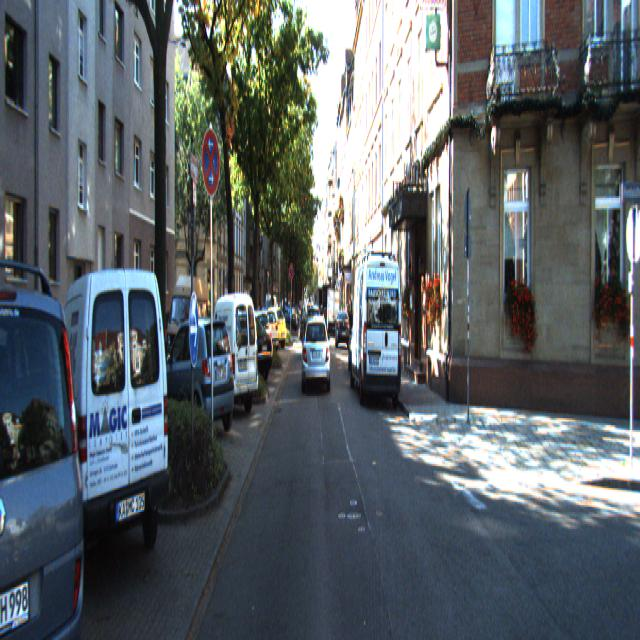Car: (48, 266, 175, 616), (0, 247, 100, 638), (156, 312, 237, 444), (189, 289, 260, 418), (350, 258, 403, 411), (162, 284, 208, 392), (218, 315, 275, 388), (302, 311, 331, 390), (255, 305, 287, 350), (304, 306, 322, 358), (336, 310, 350, 349)
